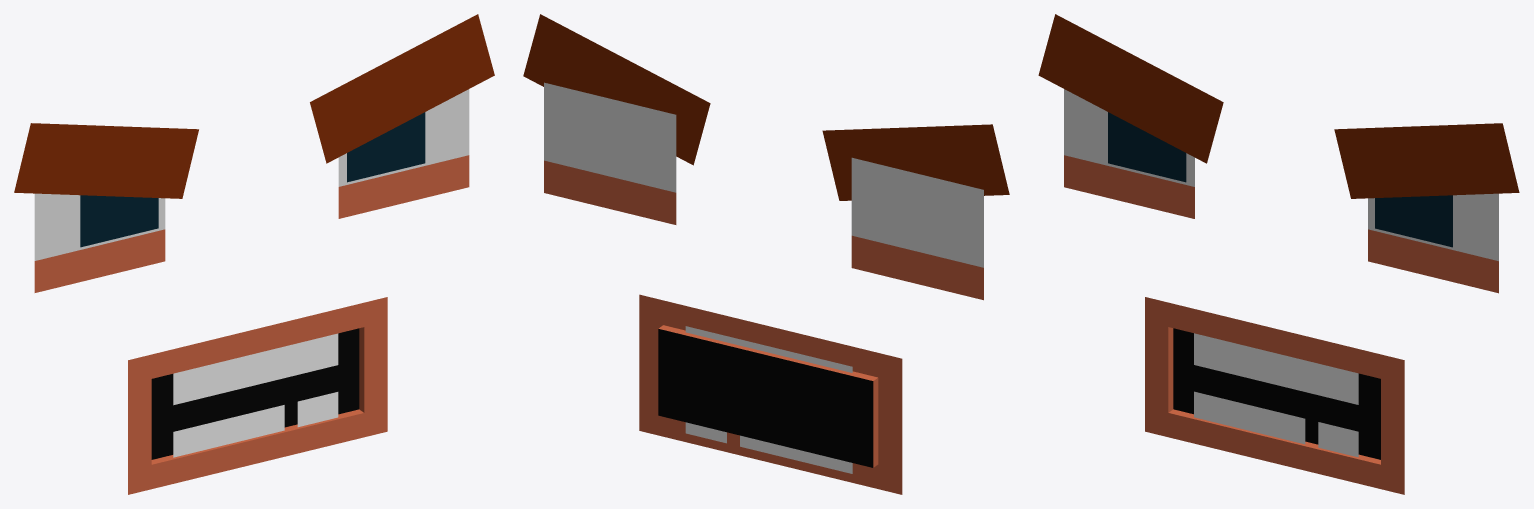
The model's file is Face Male 01.FBX.
The picture shows the model from 3 angles, left to right: view 1: azimuth 30°, elevation 25°; view 2: azimuth 150°, elevation 25°; view 3: azimuth 330°, elevation 25°; orthographic projection.
Parts seen in each view (by area): view 1: Face Male 01; view 2: Face Male 01; view 3: Face Male 01.
Part boxes in pixels (x1,y1,x2,y2): Face Male 01: (14, 14, 494, 494); Face Male 01: (523, 14, 1009, 494); Face Male 01: (1038, 14, 1519, 494).
Size of the model in its own units: 43.87 by 34.16 by 1.01.
1 material, 1 textured.
